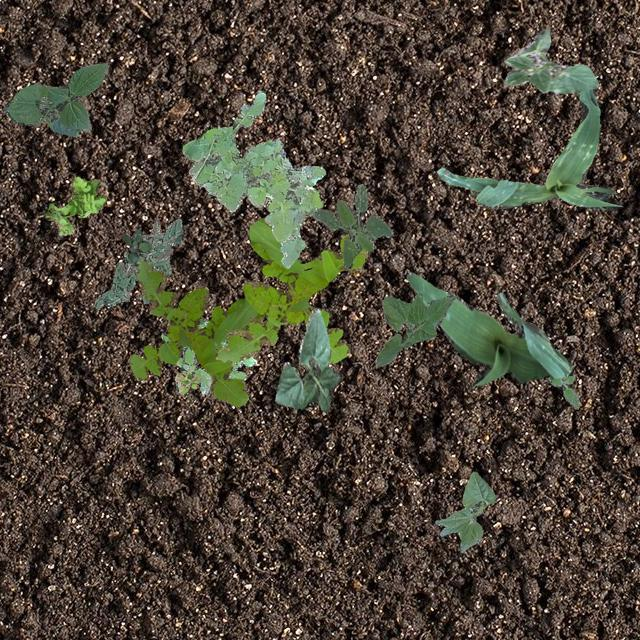crop: (436, 88, 620, 210), (406, 272, 572, 388), (3, 61, 108, 136), (274, 308, 340, 410), (504, 28, 598, 92), (374, 292, 454, 366), (434, 471, 494, 552)
weed: (182, 90, 324, 266), (215, 216, 366, 364), (128, 258, 264, 406), (94, 218, 182, 306), (309, 182, 392, 268), (160, 320, 256, 392), (42, 176, 104, 234), (546, 372, 578, 408), (120, 228, 150, 264), (173, 369, 200, 394)
